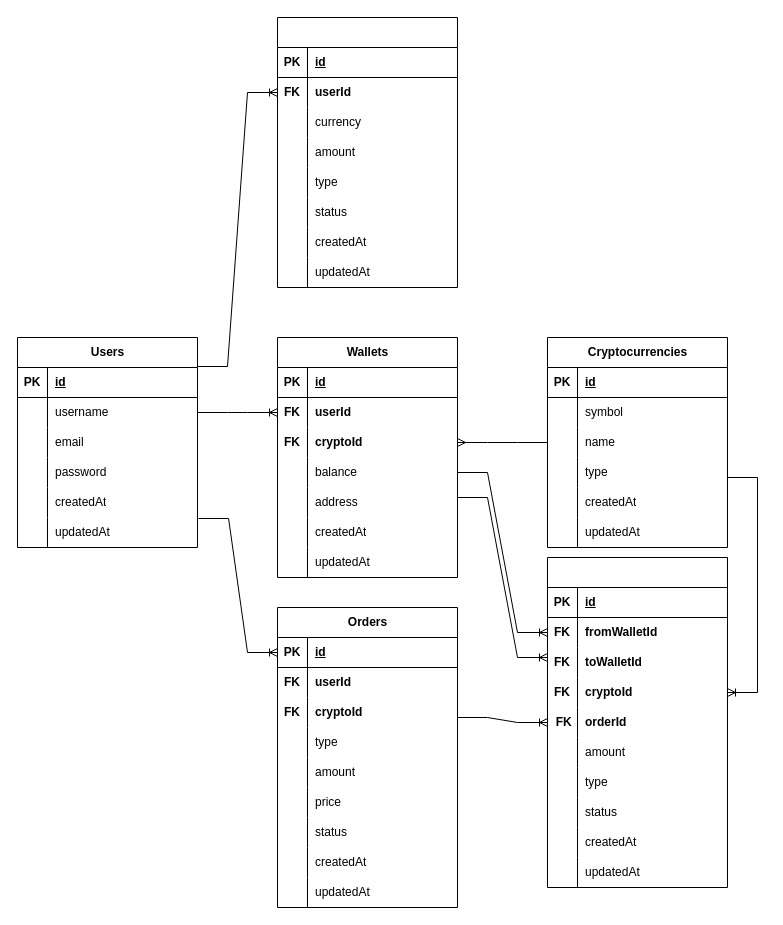
Some shapes in this 783 by 925 pixel diagram are drawn without their labels. The shapes that lost their labels are listed below. From the top down, each one's box as (x1, y1, x2, y2) in pixels, then its label:
(276, 16, 458, 288): FiatTransactions
(546, 556, 728, 888): Transactions
